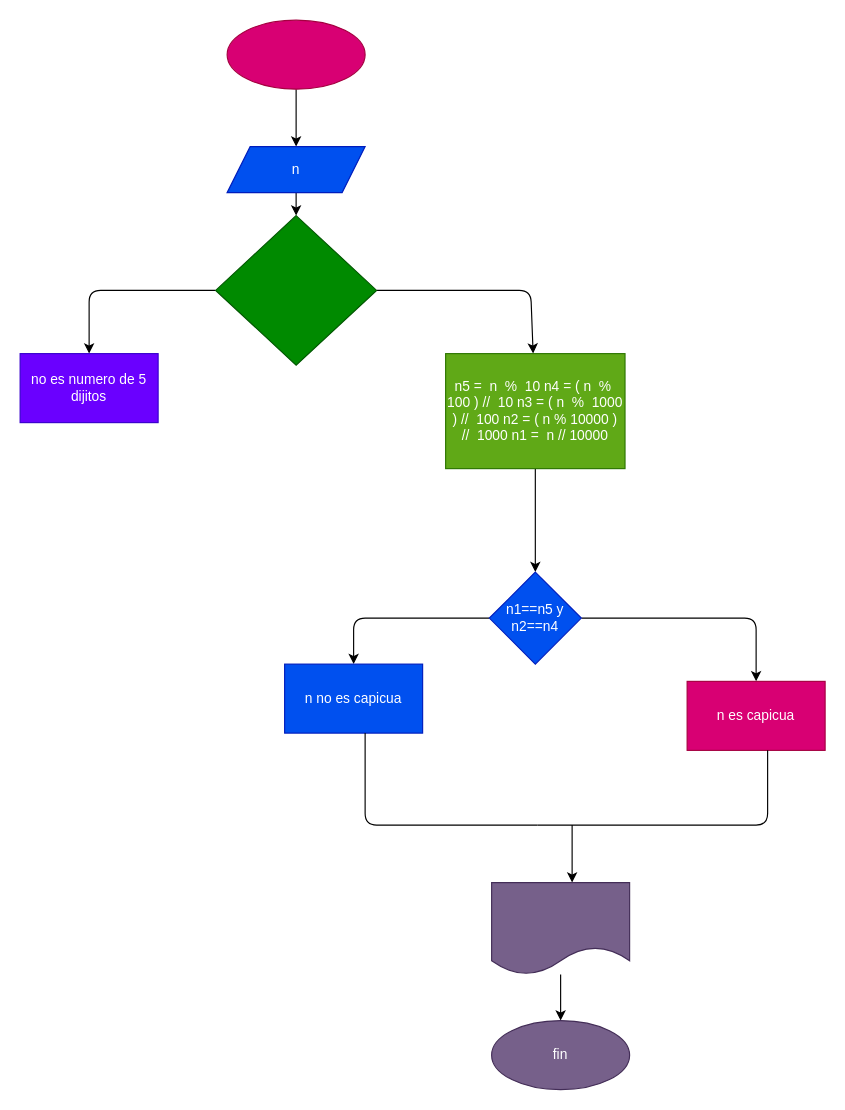
Some shapes in this 845 by 1110 pixel diagram are drawn without their labels. Here are the shapes that lost their labels. From the top down, the box of each, then its label:
(226, 19, 365, 89): inicio
(214, 214, 377, 365): 10000<=n<=9999
(490, 881, 630, 975): capicua
